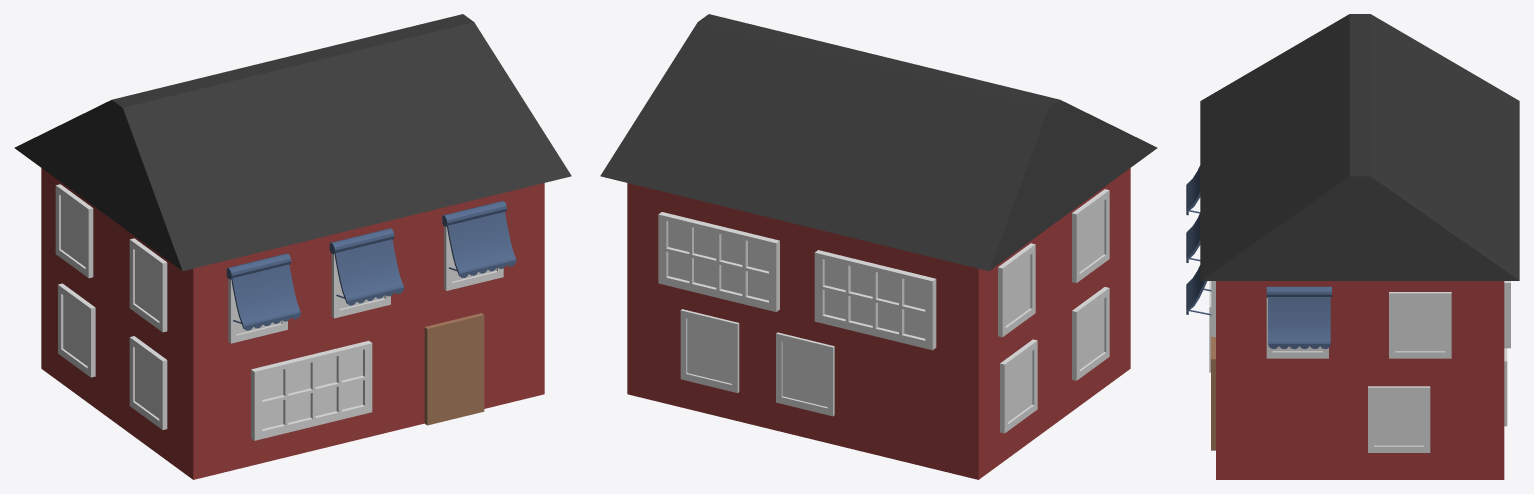
Rendered from House_02.fbx.
3 renders of one model, left to right at view 1: azimuth 30°, elevation 25°; view 2: azimuth 150°, elevation 25°; view 3: azimuth 270°, elevation 25°, orthographic. The views are drawn at different scales.
Parts seen in each view (by area): view 1: House1_Walls; view 2: House1_Walls; view 3: House1_Walls.
Boxes of the visible parts, left/top/right/bottom form: House1_Walls: left=14, top=14, right=571, bottom=479; House1_Walls: left=600, top=14, right=1157, bottom=479; House1_Walls: left=1186, top=14, right=1519, bottom=479.
Size of the model in its own units: 904 by 697 by 694.
